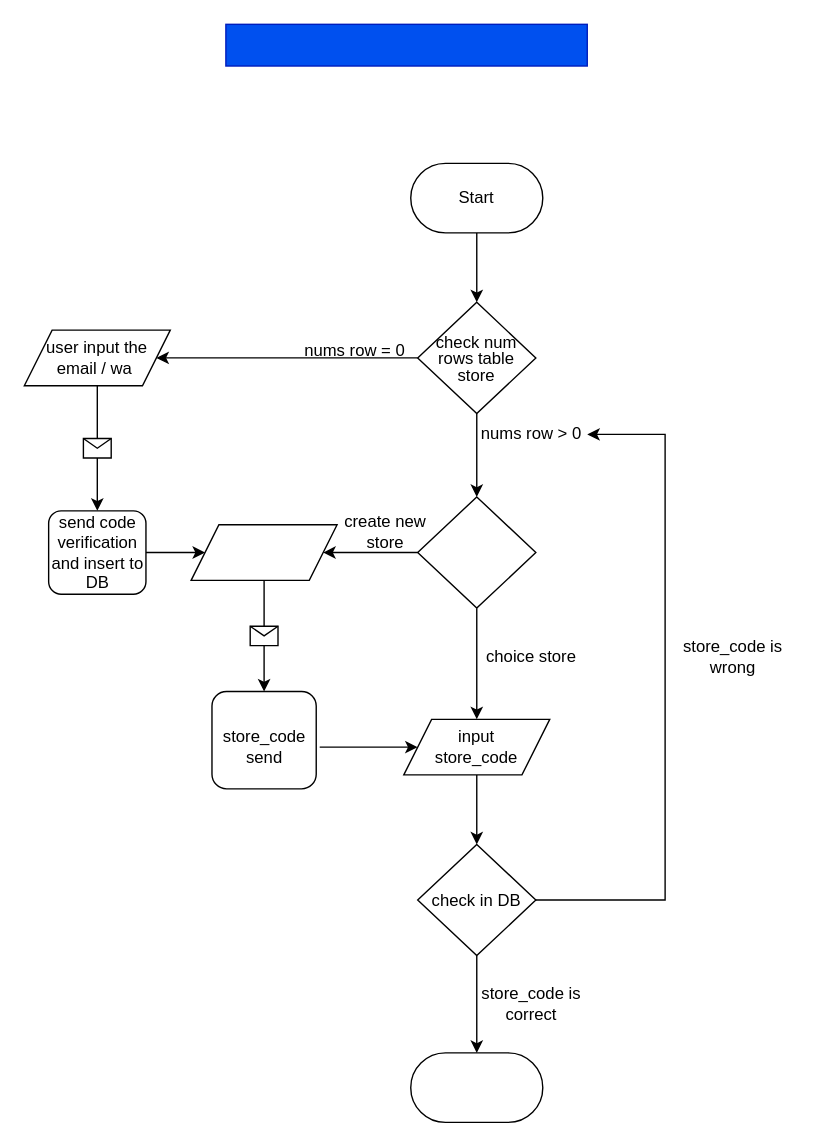
Some shapes in this 813 by 1147 pixel diagram are drawn without their labels. The centre of each missing label's shape, as x and y in pixels:
"finish" goes at (x=476, y=1087).
"FLOWCHART FIRST PAGE" goes at (x=405, y=44).
"input name, address,phone" goes at (x=263, y=551).
"user choice store or create new store" goes at (x=476, y=552).
